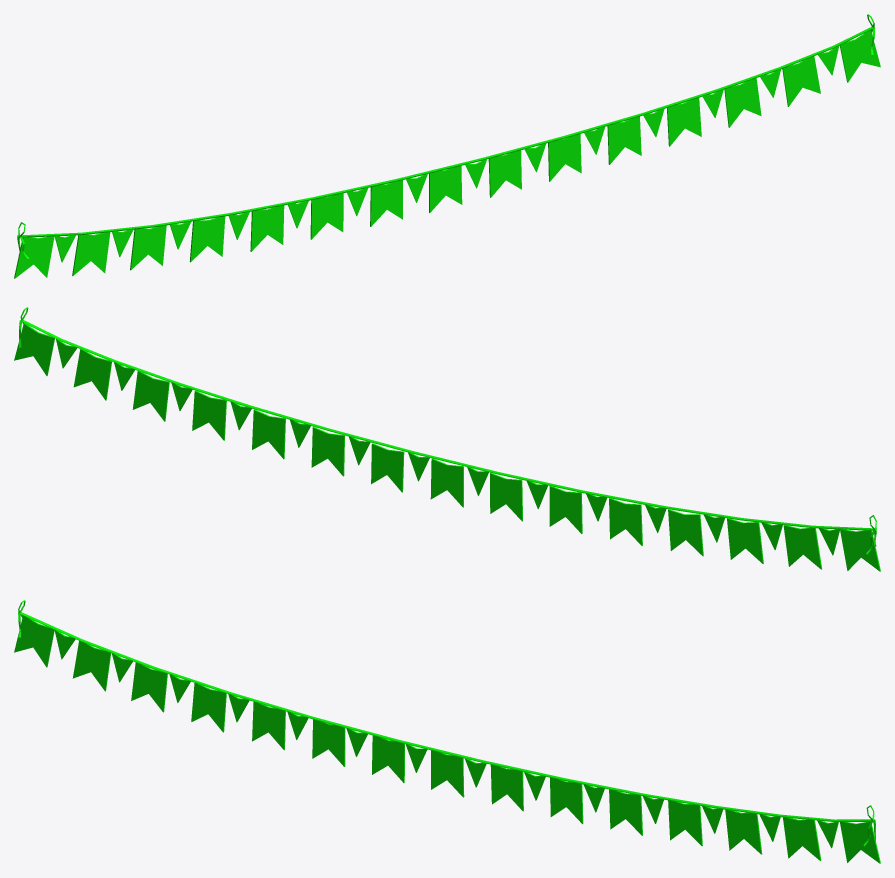
The model's file is SM_Garland_Flags_5m_Fantasy.fbx.
3 renders of one model, top to bottom at view 1: azimuth 30°, elevation 25°; view 2: azimuth 150°, elevation 25°; view 3: azimuth 330°, elevation 25°, orthographic.
Parts seen in each view (by area): view 1: garland-flags-5m-fantasy; view 2: garland-flags-5m-fantasy; view 3: garland-flags-5m-fantasy.
Boxes of the visible parts, <box> form: garland-flags-5m-fantasy: <box>14,14,880,278</box>; garland-flags-5m-fantasy: <box>14,307,880,571</box>; garland-flags-5m-fantasy: <box>14,600,880,863</box>.
Size of the model in its own units: 5.06 by 0.5099 by 0.092.
